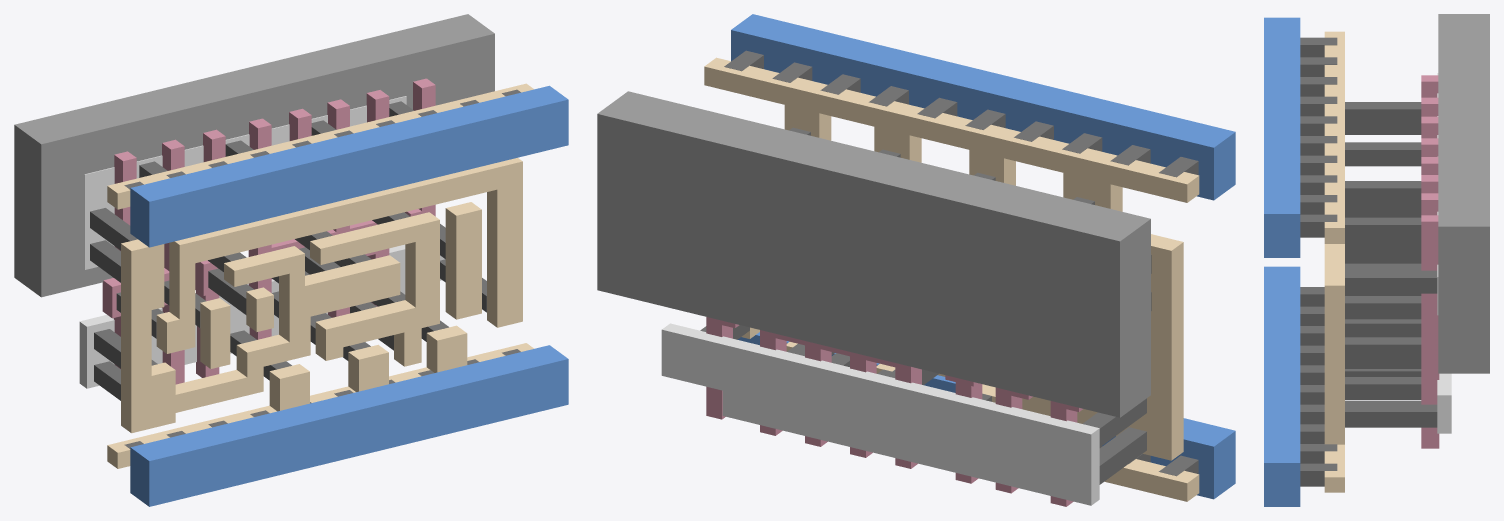
The model's file is sky130_fd_sc_hd__and3b_4.gds.gltf.
The picture shows the model from 3 angles, left to right: view 1: azimuth 30°, elevation 25°; view 2: azimuth 150°, elevation 25°; view 3: azimuth 270°, elevation 25°; orthographic projection. The views are drawn at different scales.
Parts seen in each view (by area): view 1: sky130_fd_sc_hd__and3b_4_li1, sky130_fd_sc_hd__and3b_4_met1, sky130_fd_sc_hd__and3b_4_nwell, sky130_fd_sc_hd__and3b_4_licon, sky130_fd_sc_hd__and3b_4_poly, sky130_fd_sc_hd__and3b_4_diff, sky130_fd_sc_hd__and3b_4_mcon; view 2: sky130_fd_sc_hd__and3b_4_nwell, sky130_fd_sc_hd__and3b_4_diff, sky130_fd_sc_hd__and3b_4_li1, sky130_fd_sc_hd__and3b_4_met1, sky130_fd_sc_hd__and3b_4_mcon, sky130_fd_sc_hd__and3b_4_poly, sky130_fd_sc_hd__and3b_4_licon; view 3: sky130_fd_sc_hd__and3b_4_licon, sky130_fd_sc_hd__and3b_4_nwell, sky130_fd_sc_hd__and3b_4_met1, sky130_fd_sc_hd__and3b_4_mcon, sky130_fd_sc_hd__and3b_4_li1, sky130_fd_sc_hd__and3b_4_poly, sky130_fd_sc_hd__and3b_4_diff.
Part boxes in pixels (left/top/right/bottom): sky130_fd_sc_hd__and3b_4_li1: left=107, top=83, right=533, bottom=468; sky130_fd_sc_hd__and3b_4_met1: left=130, top=85, right=568, bottom=506; sky130_fd_sc_hd__and3b_4_nwell: left=14, top=14, right=494, bottom=297; sky130_fd_sc_hd__and3b_4_licon: left=90, top=101, right=486, bottom=400; sky130_fd_sc_hd__and3b_4_poly: left=102, top=78, right=435, bottom=384; sky130_fd_sc_hd__and3b_4_diff: left=79, top=96, right=444, bottom=388; sky130_fd_sc_hd__and3b_4_mcon: left=124, top=89, right=520, bottom=448; sky130_fd_sc_hd__and3b_4_nwell: left=597, top=91, right=1150, bottom=417; sky130_fd_sc_hd__and3b_4_diff: left=661, top=323, right=1099, bottom=505; sky130_fd_sc_hd__and3b_4_li1: left=704, top=57, right=1199, bottom=501; sky130_fd_sc_hd__and3b_4_met1: left=731, top=14, right=1235, bottom=499; sky130_fd_sc_hd__and3b_4_mcon: left=724, top=50, right=1198, bottom=476; sky130_fd_sc_hd__and3b_4_poly: left=706, top=317, right=1082, bottom=506; sky130_fd_sc_hd__and3b_4_licon: left=700, top=127, right=1151, bottom=484; sky130_fd_sc_hd__and3b_4_licon: left=1345, top=102, right=1437, bottom=427; sky130_fd_sc_hd__and3b_4_nwell: left=1438, top=14, right=1489, bottom=373; sky130_fd_sc_hd__and3b_4_met1: left=1264, top=17, right=1300, bottom=506; sky130_fd_sc_hd__and3b_4_mcon: left=1300, top=37, right=1337, bottom=486; sky130_fd_sc_hd__and3b_4_li1: left=1324, top=31, right=1344, bottom=492; sky130_fd_sc_hd__and3b_4_poly: left=1421, top=75, right=1439, bottom=448; sky130_fd_sc_hd__and3b_4_diff: left=1437, top=73, right=1451, bottom=433.
Size of the model in its own units: 4.98 by 3.2 by 2.24.
